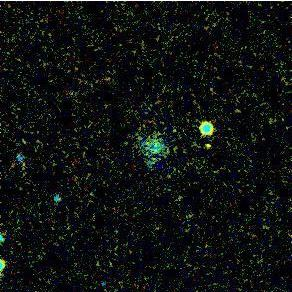star: (193, 131, 223, 161)
